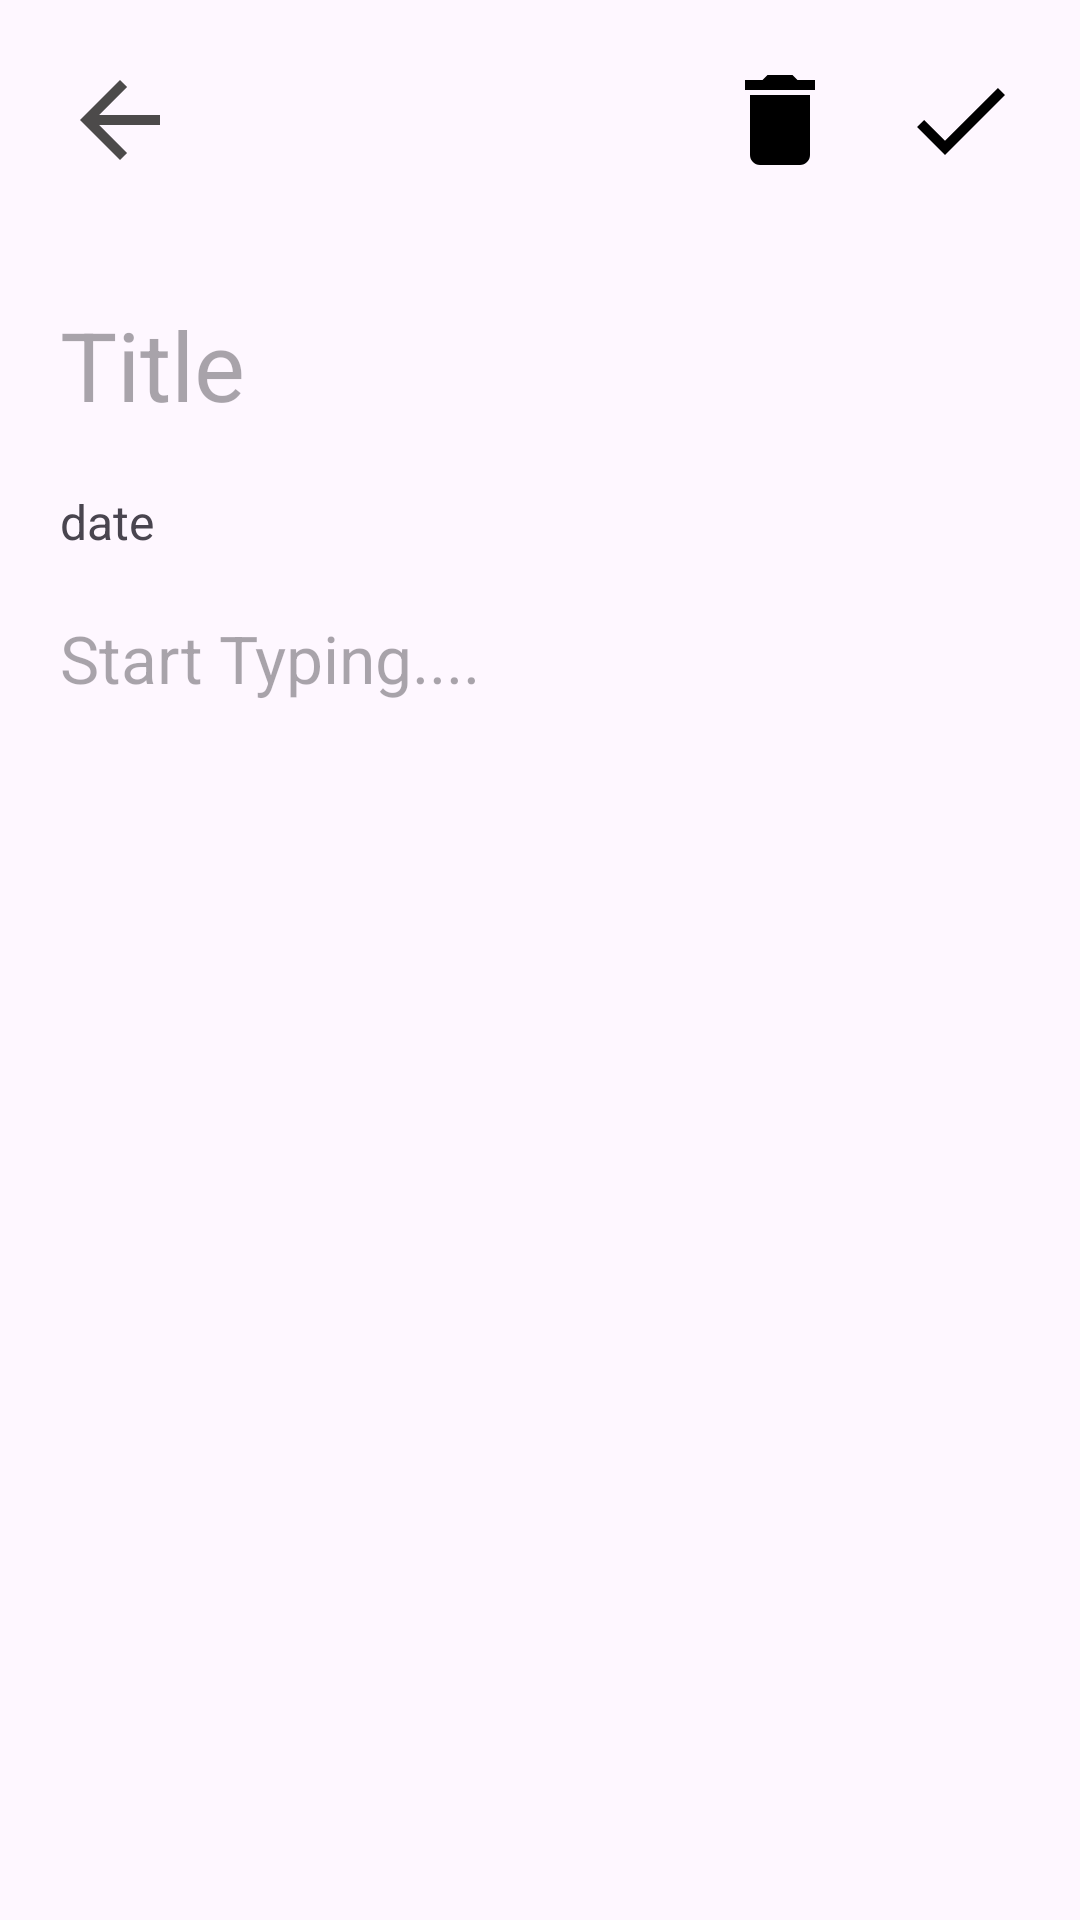

Point at icon controls on the screen. Image size 1080x1920, points as [x,y].
Back to the Notes App: [120,120]
delete: [780,120]
Save Changes and Back to Notes app: [961,121]
